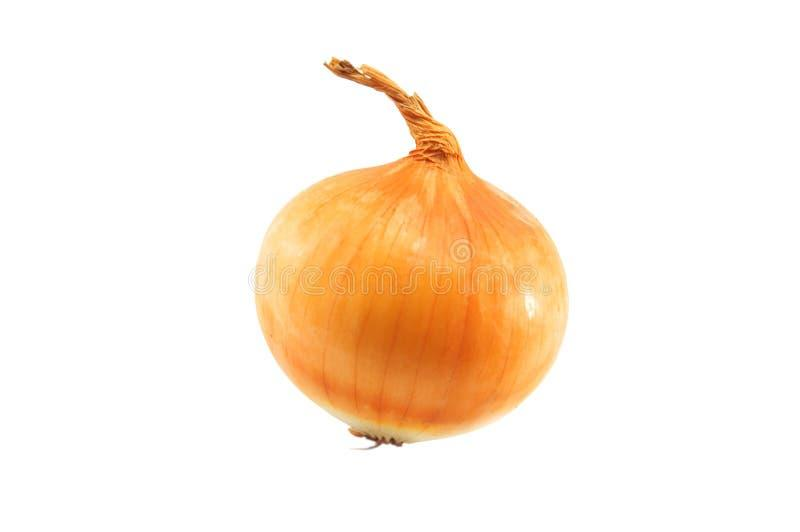Onion: (253, 59, 567, 444)
